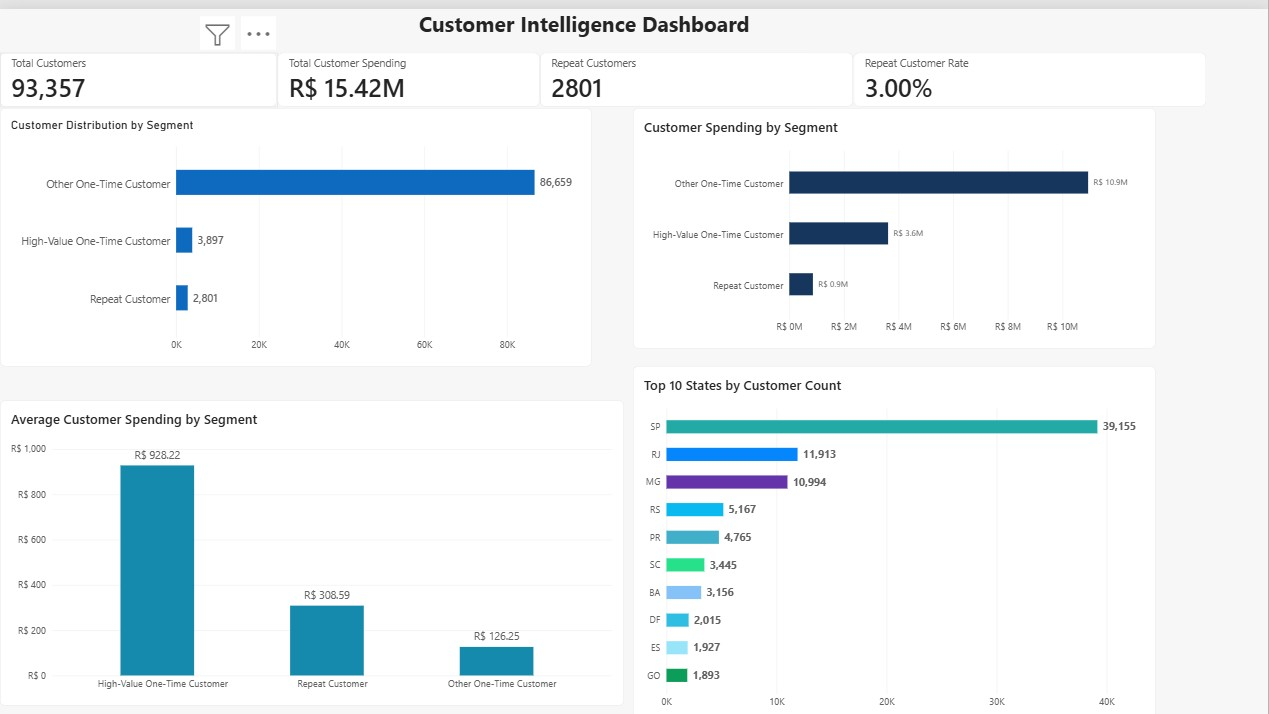

What the dashboard file says about the page in this screenshot:
{"tool":"powerbi","page":{"name":"Customer Overview","canvas":[1920,1080],"ordinal":0},"visuals":[{"type":"cardVisual","fields":{"Data":["public customer_segments.Total Customers"]},"box":[0,66,419.1,83],"z":0},{"type":"cardVisual","fields":{"Data":["public customer_segments.Total Customer Spending"]},"box":[419.1,66,397.9,83],"z":1000},{"type":"cardVisual","fields":{"Data":["public customer_segments.Repeat Customers"]},"box":[817,66,474.5,83],"z":2000},{"type":"cardVisual","fields":{"Data":["public customer_segments.Repeat Customer Rate"]},"box":[1291.5,66,534,83],"z":3000},{"type":"clusteredBarChart","title":"Customer Distribution by Segment","fields":{"Category":["public customer_segments.customer_segment"],"Y":["public customer_segments.Total Customers"]},"box":[0,148.9,895.7,391.5],"z":4000},{"type":"clusteredBarChart","title":"Customer Spending by Segment","fields":{"Category":["public customer_segments.customer_segment"],"Y":["public customer_segments.Total Customer Spending"]},"box":[959.6,148.9,791.5,363.8],"z":5000},{"type":"clusteredColumnChart","title":"Average Customer Spending by Segment","fields":{"Category":["public customer_segments.customer_segment"],"Y":["public customer_segments.Average Customer Spending"]},"box":[0,593.6,944.7,461.7],"z":6000},{"type":"textbox","box":[500,0,674.5,925.5],"z":7000},{"type":"clusteredBarChart","title":"Top 10 States by Customer Count","fields":{"Category":["public customer_segments.customer_state"],"Y":["public customer_segments.Total Customers"]},"box":[959.6,540.4,791.5,540.4],"z":8000}]}

Visuals, with their boxes in screenshot pixels (x1, y1, x2, y2), scaled from the page's 1920x1080 canvas onto the 1269x714 screenshot:
cardVisual - public customer_segments.Total Customers: region(0, 44, 277, 99)
cardVisual - public customer_segments.Total Customer Spending: region(277, 44, 540, 99)
cardVisual - public customer_segments.Repeat Customers: region(540, 44, 854, 99)
cardVisual - public customer_segments.Repeat Customer Rate: region(854, 44, 1207, 99)
"Customer Distribution by Segment" clusteredBarChart: region(0, 98, 592, 357)
"Customer Spending by Segment" clusteredBarChart: region(634, 98, 1157, 339)
"Average Customer Spending by Segment" clusteredColumnChart: region(0, 392, 624, 698)
textbox: region(330, 0, 776, 612)
"Top 10 States by Customer Count" clusteredBarChart: region(634, 357, 1157, 713)
